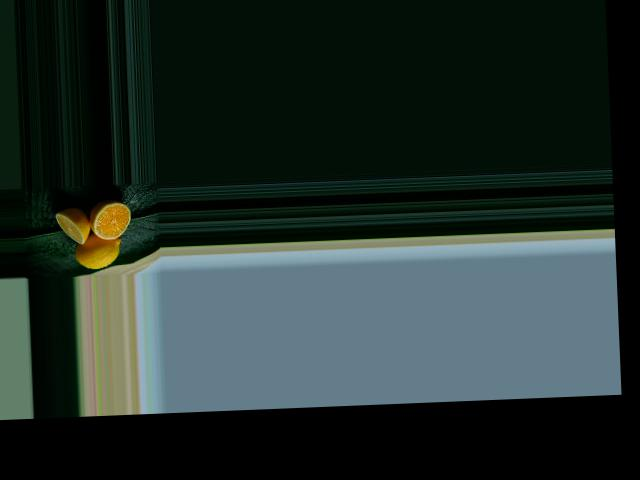lemon: (73, 229, 129, 269)
